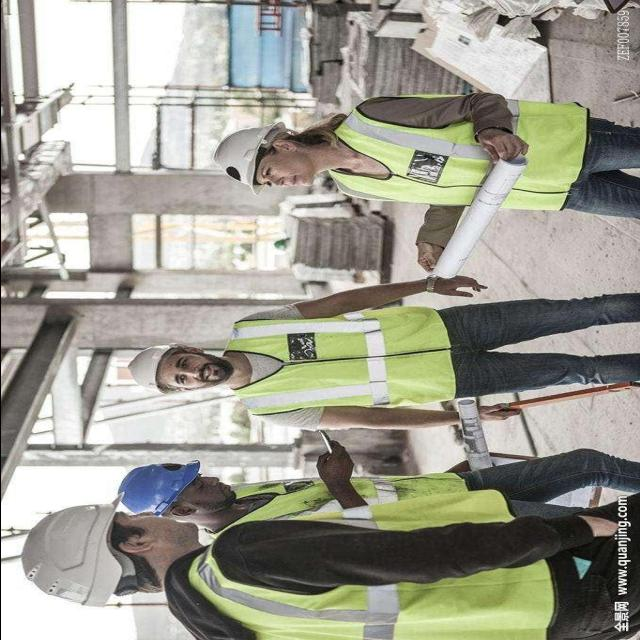helmet: (10, 489, 137, 617), (210, 114, 283, 200), (115, 454, 207, 516), (126, 338, 174, 400)
jacket: (160, 516, 554, 634), (326, 95, 596, 213), (232, 298, 458, 426)
